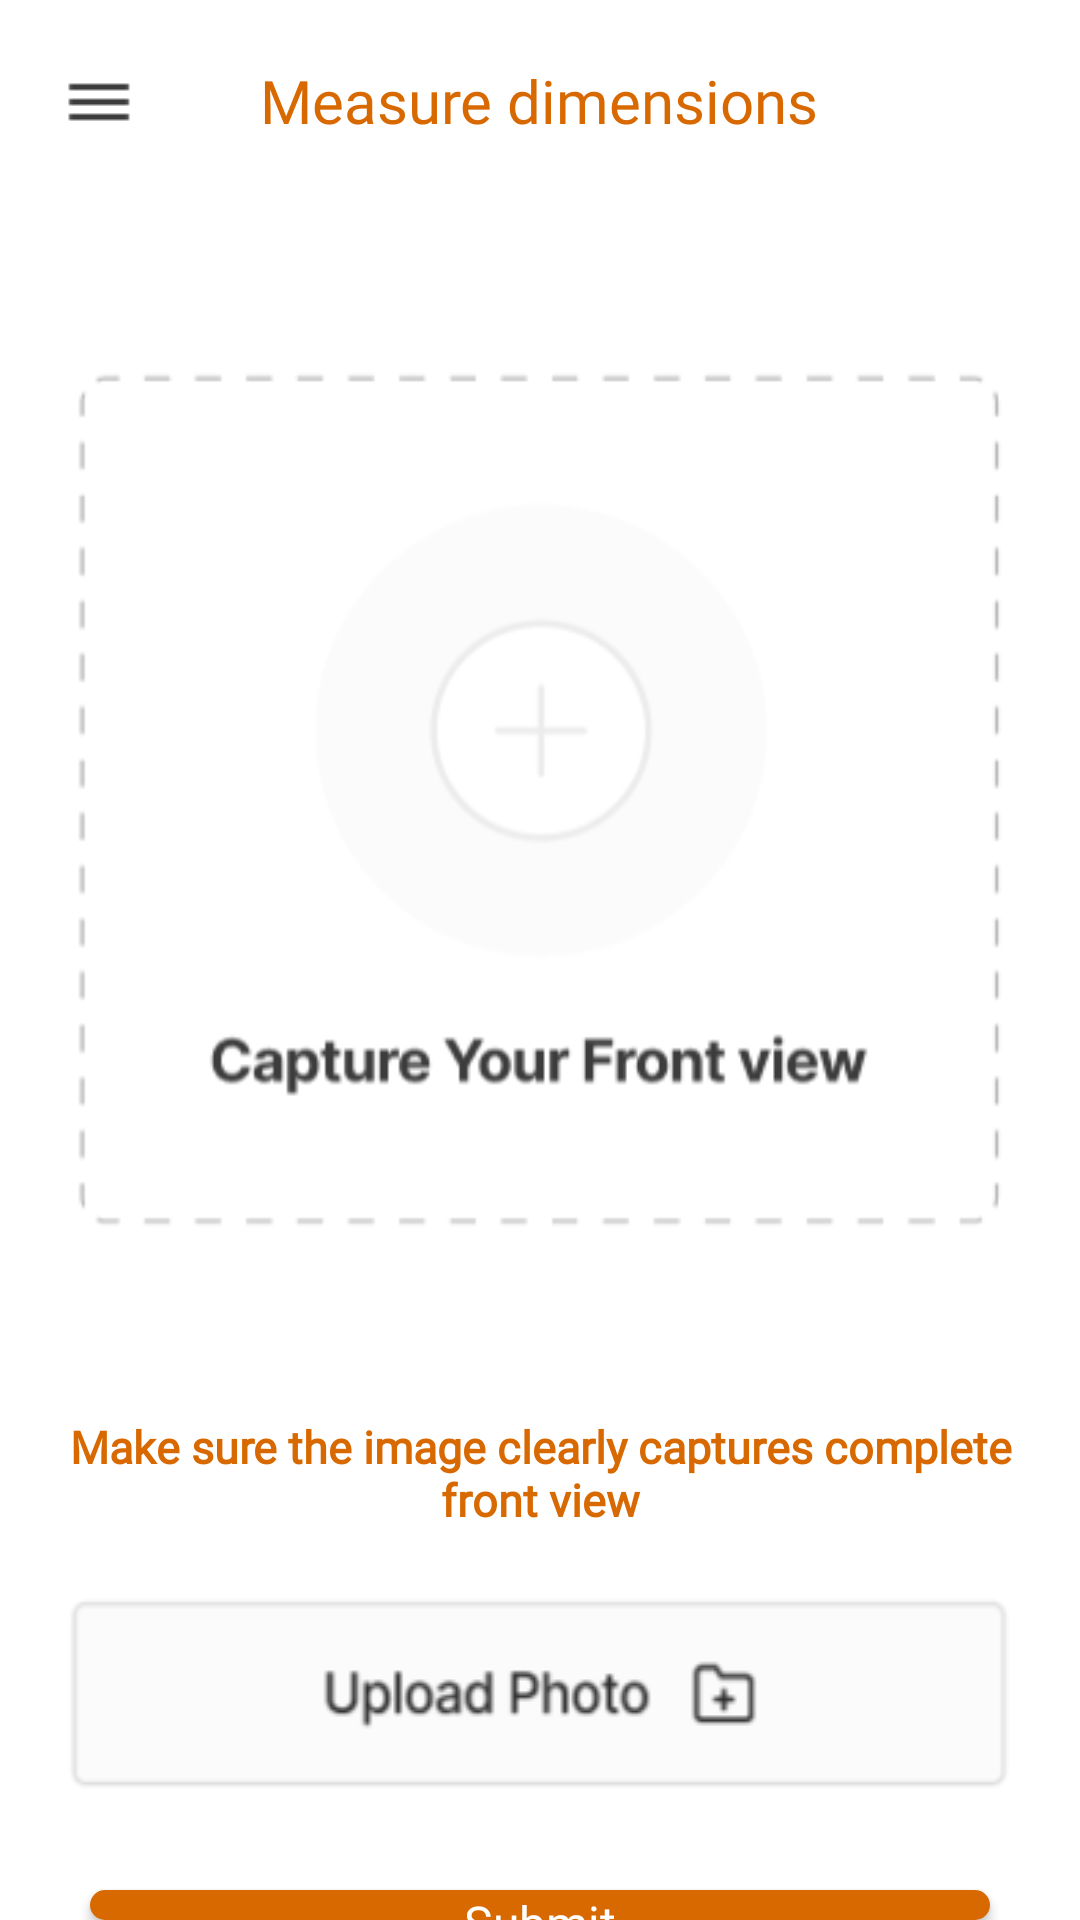

Where icons sit on this 1080px×1920px app screen, as (x1, y1, x2, y2):
menu: (68, 83, 130, 121)
